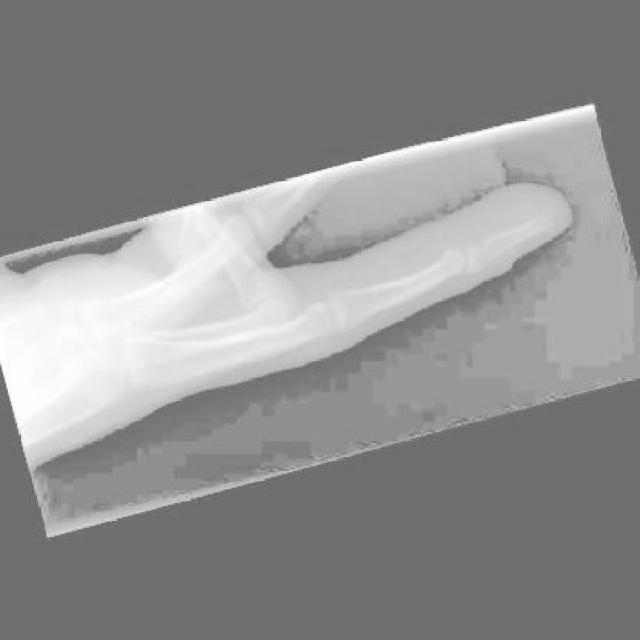Fracture: (468, 236, 506, 282)
